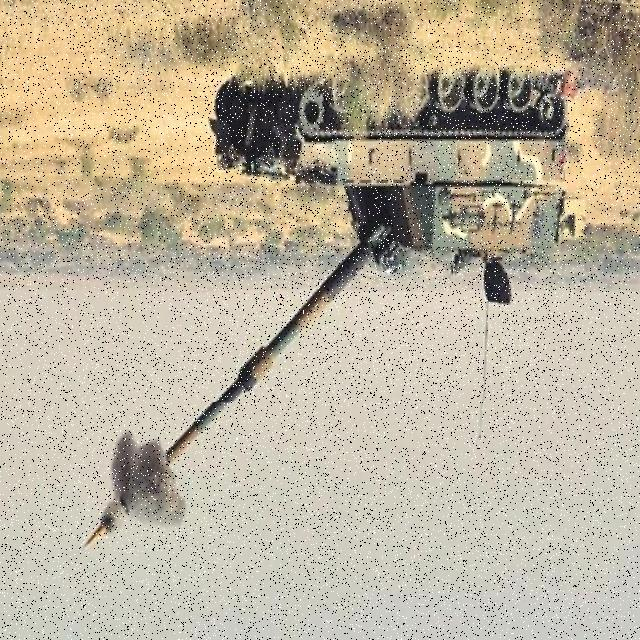MIL_MBT: (195, 46, 564, 402)
